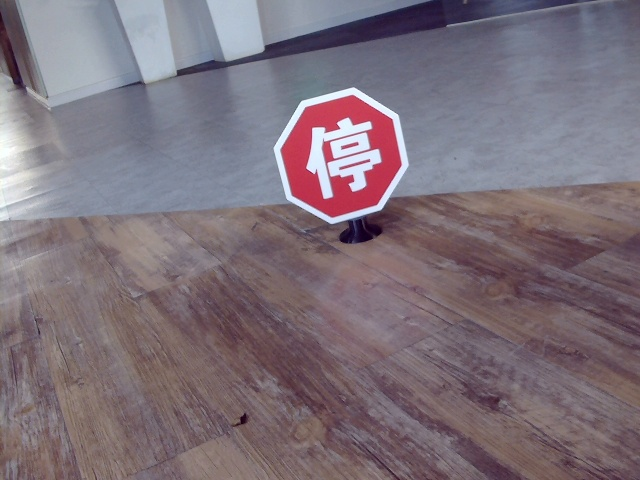stop: (300, 118, 384, 199)
